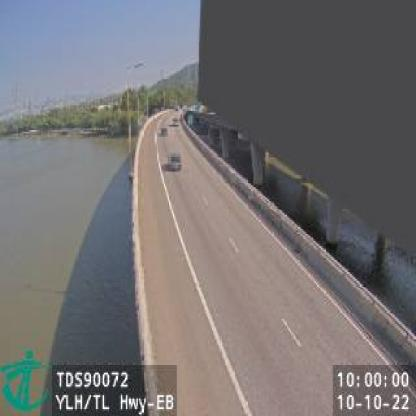Car: (167, 152, 181, 171), (159, 126, 169, 138), (172, 117, 180, 125)
